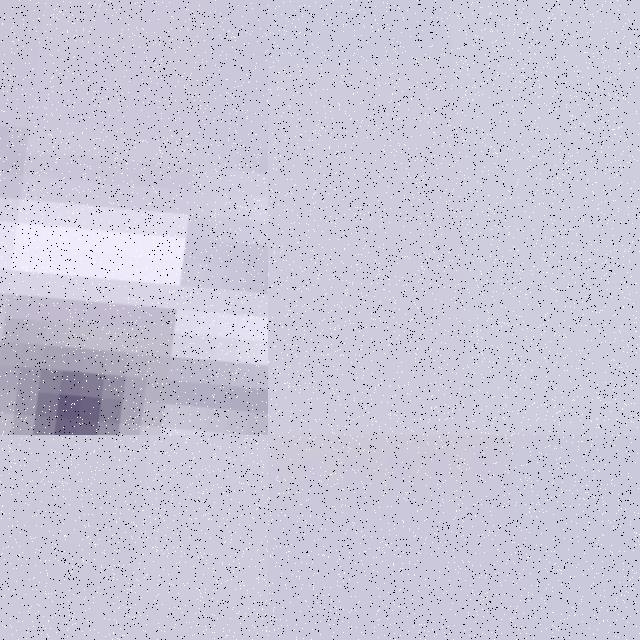drone: (0, 0, 268, 435), (0, 435, 268, 640)
